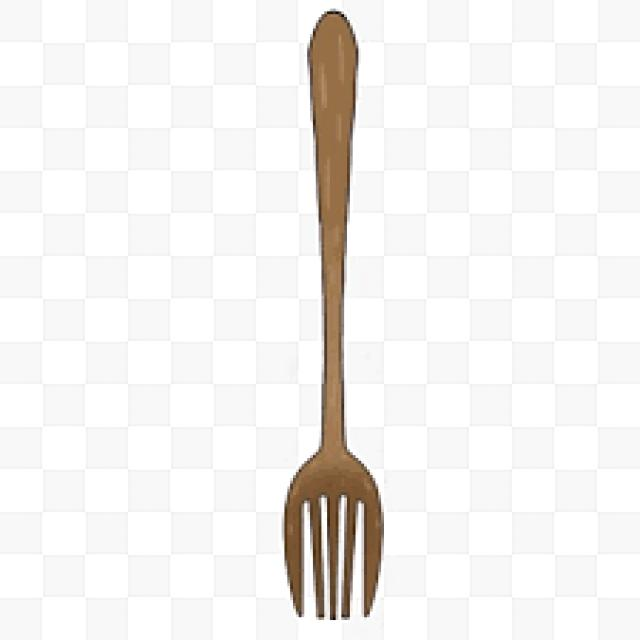Garpu: (264, 0, 430, 626)
